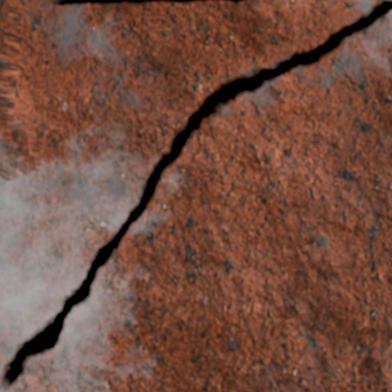brick: (0, 11, 391, 391), (0, 0, 380, 378)
crack: (0, 0, 391, 390), (51, 0, 208, 5), (210, 0, 244, 2)
